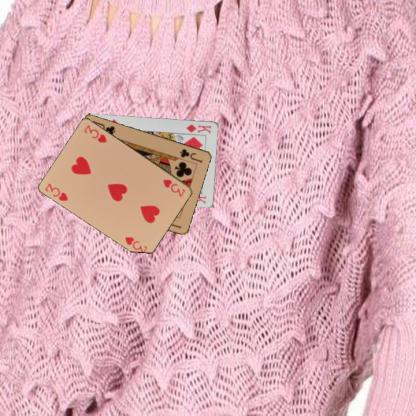3h: (43, 181, 70, 203), (160, 177, 186, 198)
Jc: (177, 146, 204, 164)
Kd: (184, 121, 212, 135)
